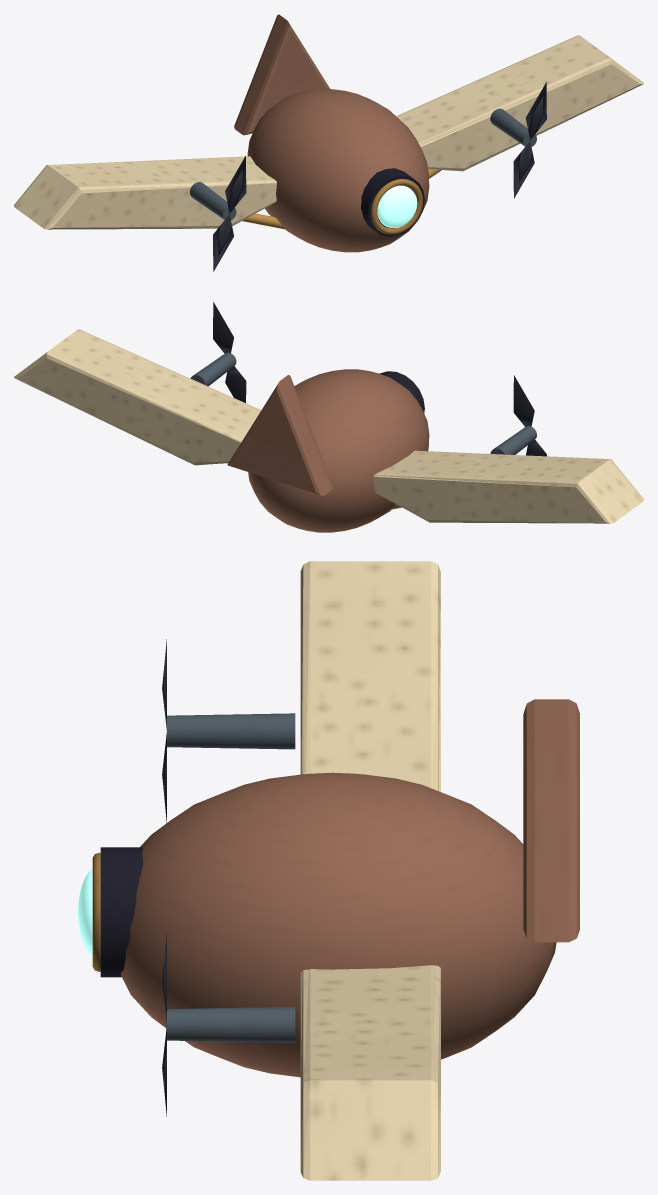
The model's file is pinion.glb.
3 views of the same model, one above another, from view 1: azimuth 30°, elevation 25°; view 2: azimuth 150°, elevation 25°; view 3: azimuth 270°, elevation 25° (orthographic). The views are drawn at different scales.
Visible parts, largest first — view 1: Fixed wing (×2), Aerial gearbox, Tail rudder, Blade (×4), Prop axle (×2), Optical glass, Barrel, Lens bezel; view 2: Fixed wing (×2), Aerial gearbox, Tail rudder, Blade (×3), Prop axle (×2), Barrel; view 3: Aerial gearbox, Fixed wing (×2), Tail rudder, Prop axle (×2), Barrel, Lens bezel, Optical glass.
Part boxes in pixels (x1=…): Fixed wing (×2): x1=14, y1=35, x2=643, y2=229; Aerial gearbox: x1=247, y1=89, x2=429, y2=252; Tail rudder: x1=234, y1=14, x2=329, y2=135; Blade (×4): x1=213, y1=82, x2=546, y2=271; Prop axle (×2): x1=190, y1=108, x2=536, y2=220; Optical glass: x1=377, y1=185, x2=417, y2=227; Barrel: x1=361, y1=168, x2=424, y2=236; Lens bezel: x1=371, y1=179, x2=422, y2=234; Fixed wing (×2): x1=14, y1=329, x2=643, y2=523; Aerial gearbox: x1=248, y1=369, x2=429, y2=532; Tail rudder: x1=227, y1=375, x2=332, y2=495; Blade (×3): x1=213, y1=302, x2=534, y2=426; Prop axle (×2): x1=190, y1=352, x2=536, y2=454; Barrel: x1=379, y1=371, x2=424, y2=412; Aerial gearbox: x1=121, y1=772, x2=556, y2=1077; Fixed wing (×2): x1=300, y1=561, x2=440, y2=1180; Tail rudder: x1=523, y1=699, x2=579, y2=942; Prop axle (×2): x1=167, y1=713, x2=295, y2=1042; Barrel: x1=100, y1=847, x2=143, y2=977; Lens bezel: x1=92, y1=852, x2=100, y2=971; Optical glass: x1=78, y1=869, x2=92, y2=955.
Size of the model in its own units: 1.84 by 0.5312 by 0.6655.
Materials: 8 (7 with a texture image).
